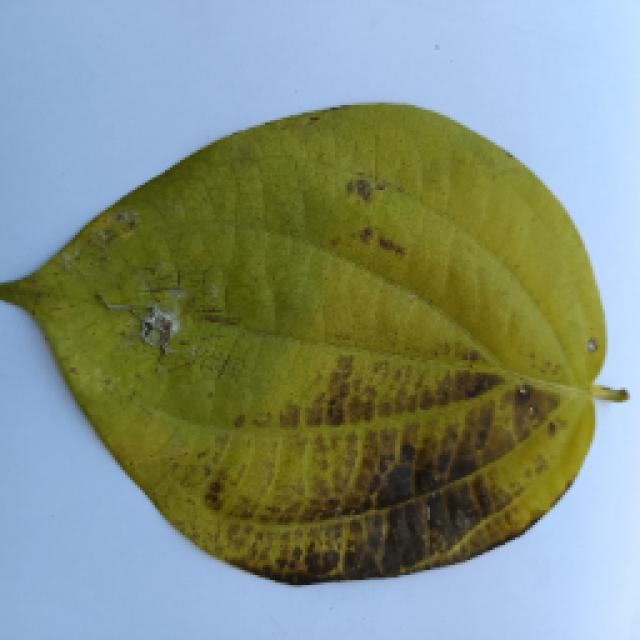slow-decline: (0, 122, 615, 600)
